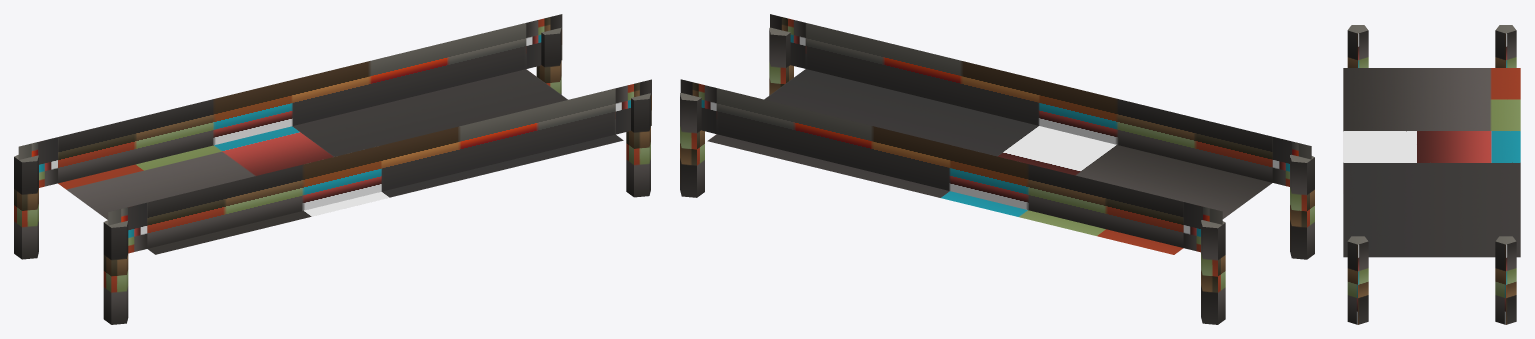
The model's file is Bridge_2_Physics.fbx.
3 views of the same model, side by side, from view 1: azimuth 30°, elevation 25°; view 2: azimuth 150°, elevation 25°; view 3: azimuth 270°, elevation 25° (orthographic). The views are drawn at different scales.
Parts seen in each view (by area): view 1: polySurface585; view 2: polySurface585; view 3: polySurface585.
Part boxes in pixels (box(x1,y1,x2,y2)): polySurface585: box(14, 14, 651, 324); polySurface585: box(680, 14, 1314, 324); polySurface585: box(1343, 25, 1520, 324).
Bounding box in the file's own units: 1172 × 228 × 400.
Materials: 1 (1 with a texture image).
